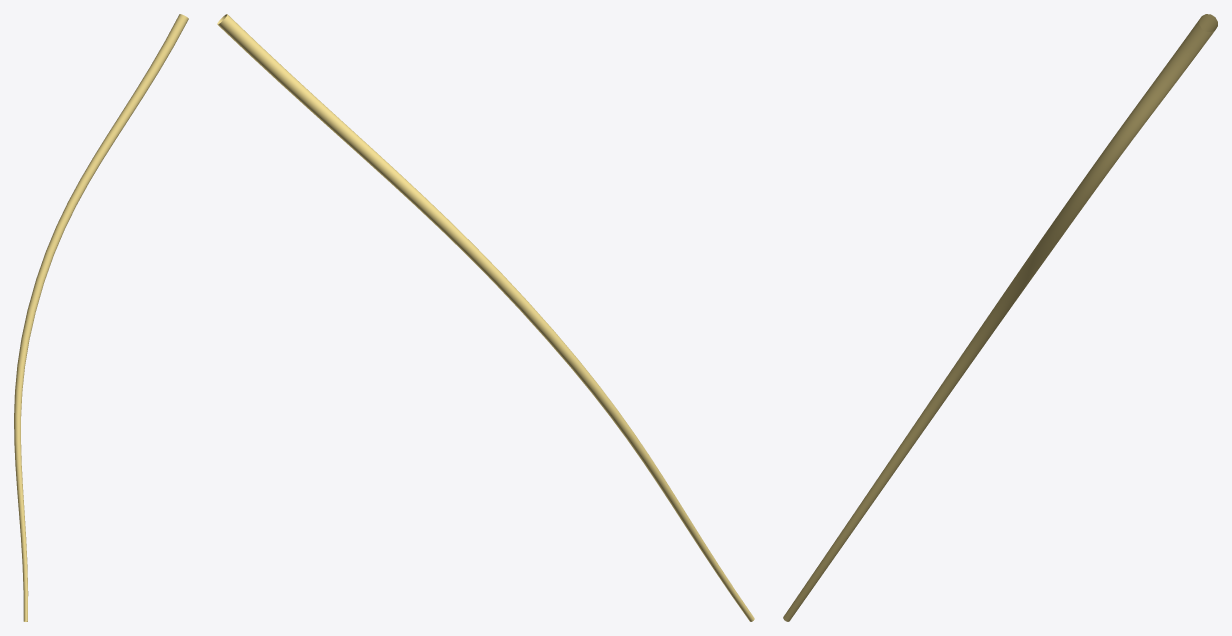
The picture shows the model from 3 angles, left to right: view 1: azimuth 30°, elevation 25°; view 2: azimuth 150°, elevation 25°; view 3: azimuth 270°, elevation 25°; orthographic projection. The views are drawn at different scales.
Visible parts, largest first — view 1: ZA_b63bd63f4f92a9ca; view 2: ZA_b63bd63f4f92a9ca; view 3: ZA_b63bd63f4f92a9ca.
Part boxes in pixels (x1=…): ZA_b63bd63f4f92a9ca: x1=14, y1=14, x2=188, y2=621; ZA_b63bd63f4f92a9ca: x1=217, y1=14, x2=754, y2=621; ZA_b63bd63f4f92a9ca: x1=783, y1=14, x2=1217, y2=621.
Size of the model in its own units: 0.0301 by 0.0475 by 0.022.
